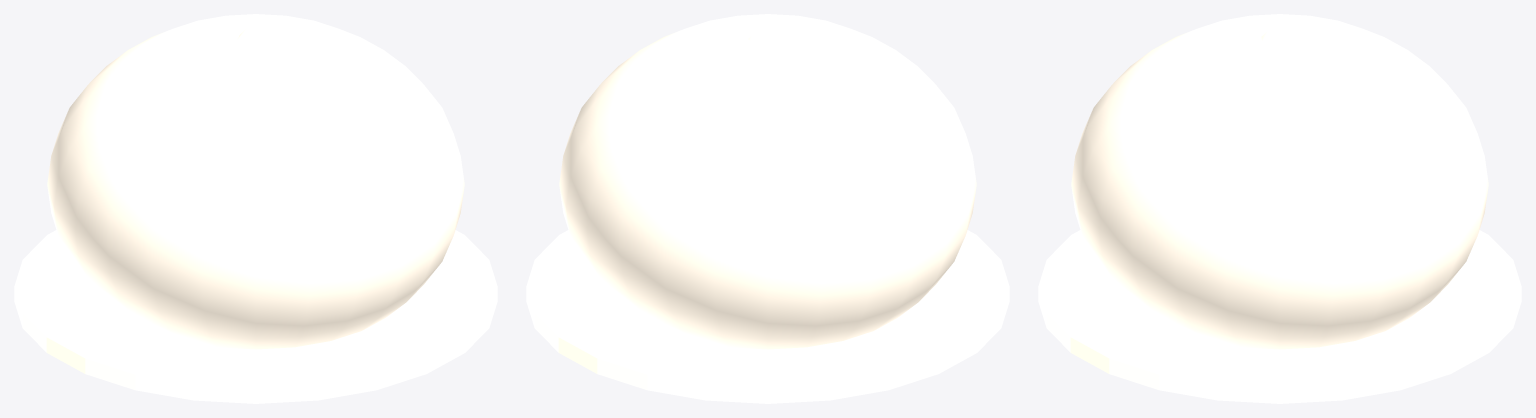
The model's file is SM_Momo_Collectible.fbx.
3 renders of one model, left to right at view 1: azimuth 30°, elevation 25°; view 2: azimuth 150°, elevation 25°; view 3: azimuth 270°, elevation 25°, orthographic.
Parts seen in each view (by area): view 1: SM_Momo_Collectible, Momo_Glow_Disc, Momo_Pleat; view 2: SM_Momo_Collectible, Momo_Glow_Disc, Momo_Pleat; view 3: SM_Momo_Collectible, Momo_Glow_Disc, Momo_Pleat.
Part boxes in pixels (bbox=[...]): SM_Momo_Collectible: bbox=[47, 14, 464, 349]; Momo_Glow_Disc: bbox=[14, 230, 497, 403]; Momo_Pleat: bbox=[237, 24, 275, 47]; SM_Momo_Collectible: bbox=[559, 14, 976, 349]; Momo_Glow_Disc: bbox=[526, 230, 1009, 403]; Momo_Pleat: bbox=[748, 24, 787, 47]; SM_Momo_Collectible: bbox=[1071, 14, 1488, 349]; Momo_Glow_Disc: bbox=[1038, 230, 1521, 403]; Momo_Pleat: bbox=[1261, 24, 1298, 47].
Size of the model in its own units: 56 by 38.7 by 56.
